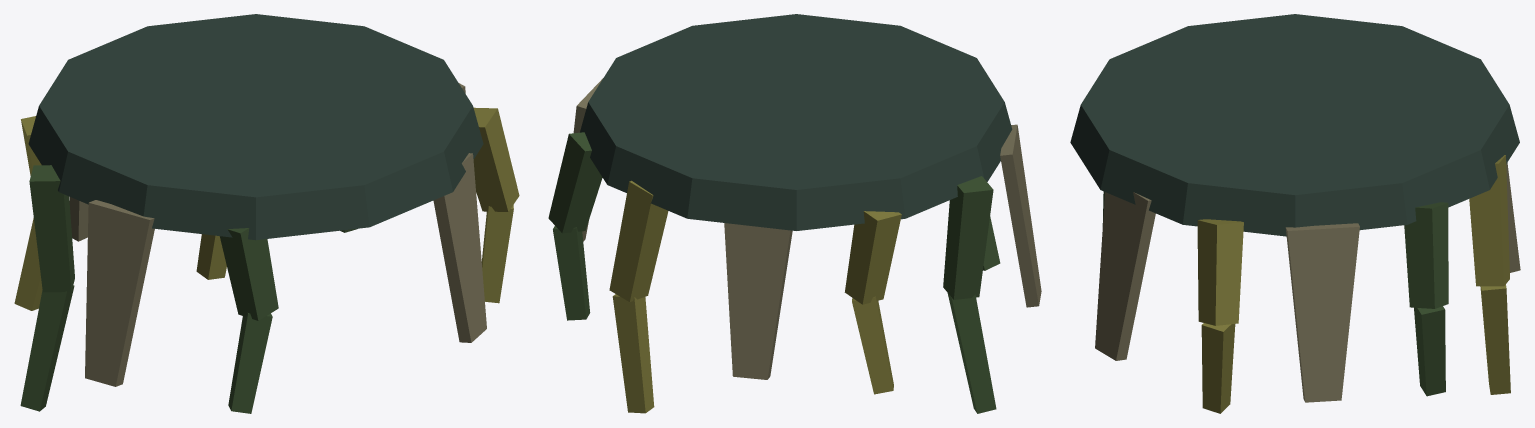
The model's file is sunken_hips.glb.
3 renders of one model, left to right at view 1: azimuth 30°, elevation 25°; view 2: azimuth 150°, elevation 25°; view 3: azimuth 270°, elevation 25°, orthographic. The views are drawn at different scales.
Visible parts, largest first — view 1: sunken_hips; view 2: sunken_hips; view 3: sunken_hips.
Boxes of the visible parts, <box> form: sunken_hips: <box>14,14,519,413</box>; sunken_hips: <box>548,14,1041,413</box>; sunken_hips: <box>1070,14,1520,413</box>.
Bounding box in the file's own units: 0.9793 × 0.5462 × 0.8611.
